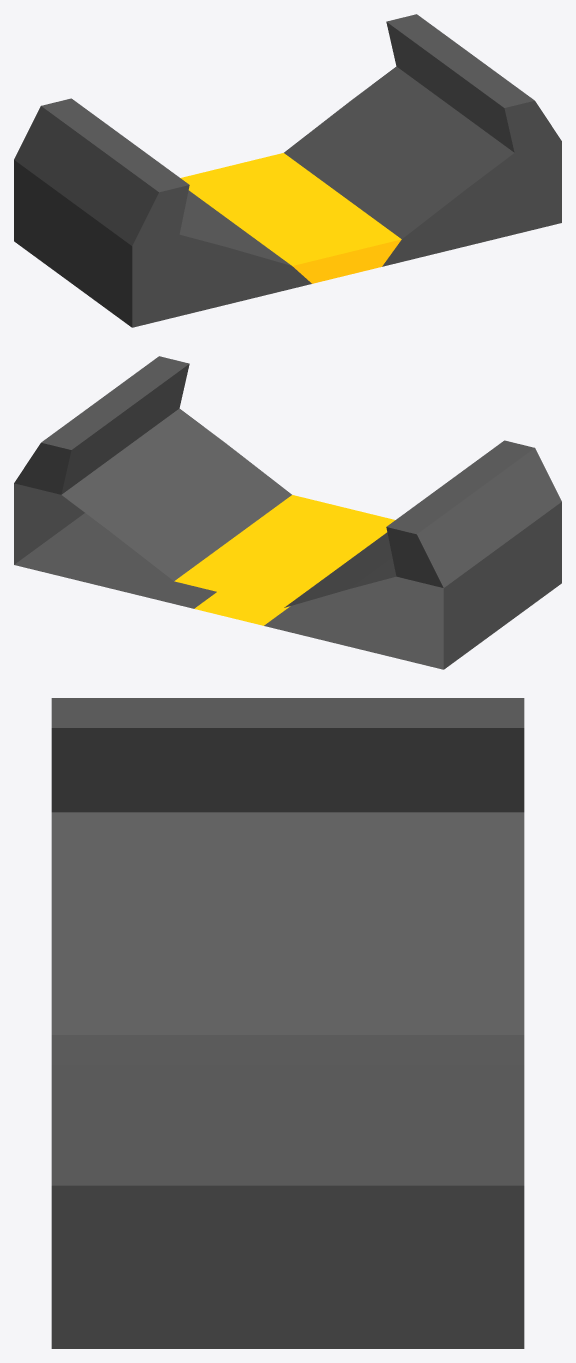
File: Spline_Slip_Closed_1.fbx
The picture shows the model from 3 angles, top to bottom: view 1: azimuth 30°, elevation 25°; view 2: azimuth 150°, elevation 25°; view 3: azimuth 270°, elevation 25°; orthographic projection. The views are drawn at different scales.
Visible parts, largest first — view 1: Spline_Slip_Closed 1; view 2: Spline_Slip_Closed 1; view 3: Spline_Slip_Closed 1.
Boxes of the visible parts, x1=… form: Spline_Slip_Closed 1: x1=14, y1=14, x2=561, y2=327; Spline_Slip_Closed 1: x1=14, y1=356, x2=561, y2=669; Spline_Slip_Closed 1: x1=51, y1=698, x2=524, y2=1348.
Bounding box in the file's own units: 2100 × 602 × 1000.
